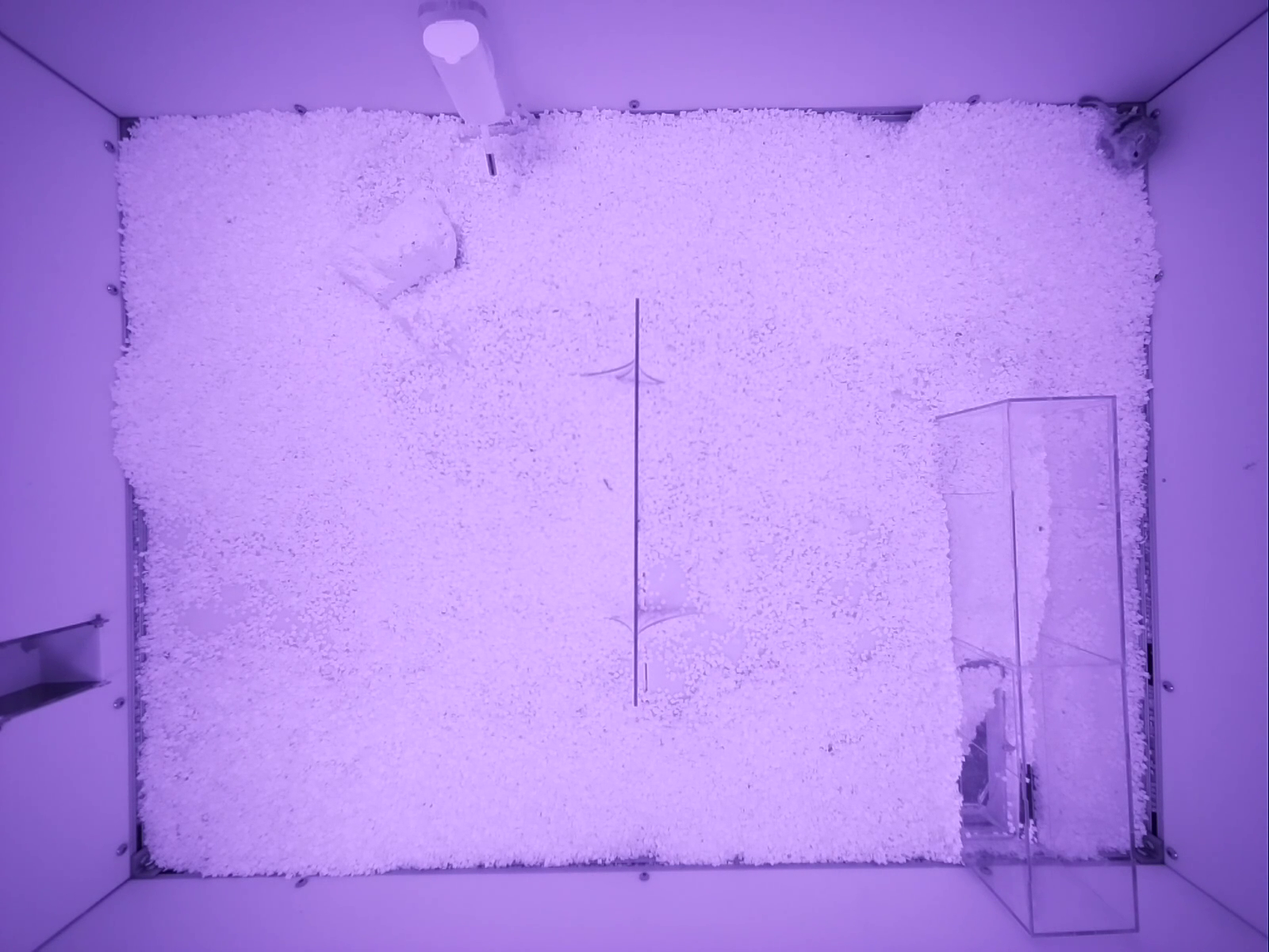adult_back: (1079, 95, 1160, 171)
